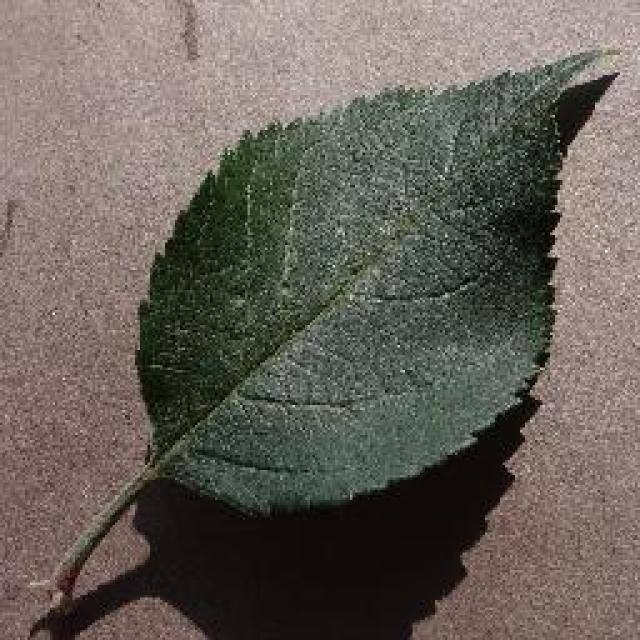apple healthy: (28, 43, 620, 615)
